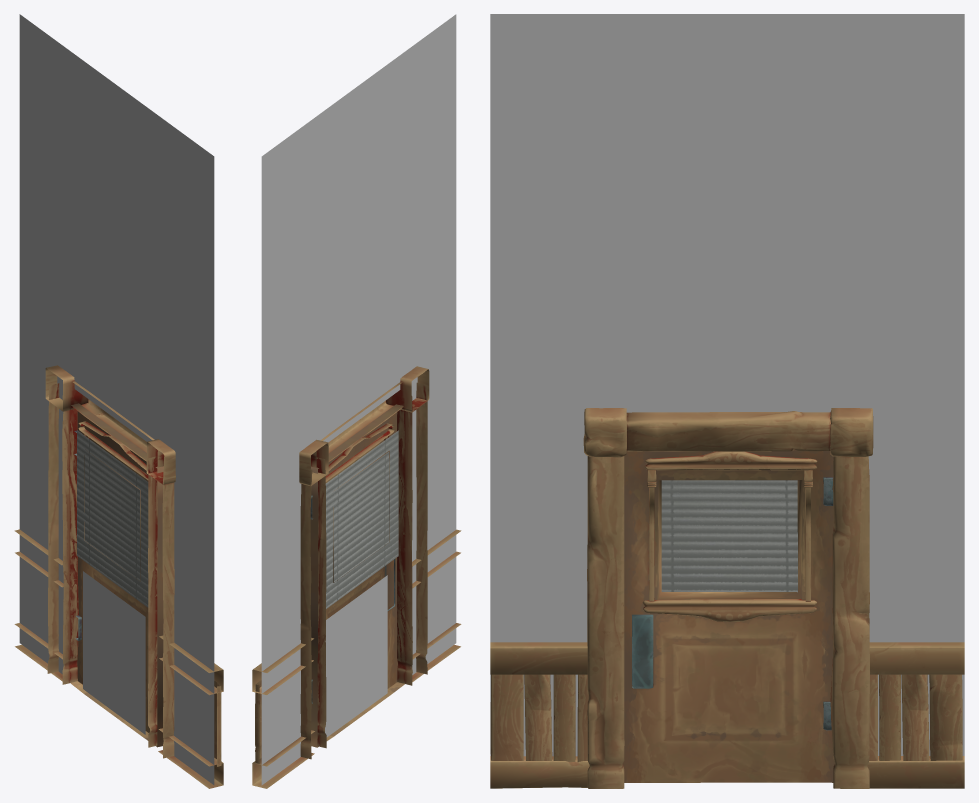
The model's file is Modular_Door.fbx.
3 renders of one model, left to right at view 1: azimuth 30°, elevation 25°; view 2: azimuth 150°, elevation 25°; view 3: azimuth 270°, elevation 25°, orthographic. The views are drawn at different scales.
Visible parts, largest first — view 1: door_modular.001, door_modular.003, door_modular.002; view 2: door_modular.001, door_modular.003, door_modular.002; view 3: door_modular.001, door_modular.003, door_modular.002.
Boxes of the visible parts, x1,y1,x2,y2 form: door_modular.001: (19,14,214,784); door_modular.003: (70,403,163,747); door_modular.002: (14,365,223,788); door_modular.001: (261,14,456,785); door_modular.003: (310,404,404,747); door_modular.002: (252,366,461,788); door_modular.001: (490,14,964,756); door_modular.003: (623,450,834,782); door_modular.002: (490,408,964,788).
Size of the model in its own units: 43.92 by 847 by 474.
